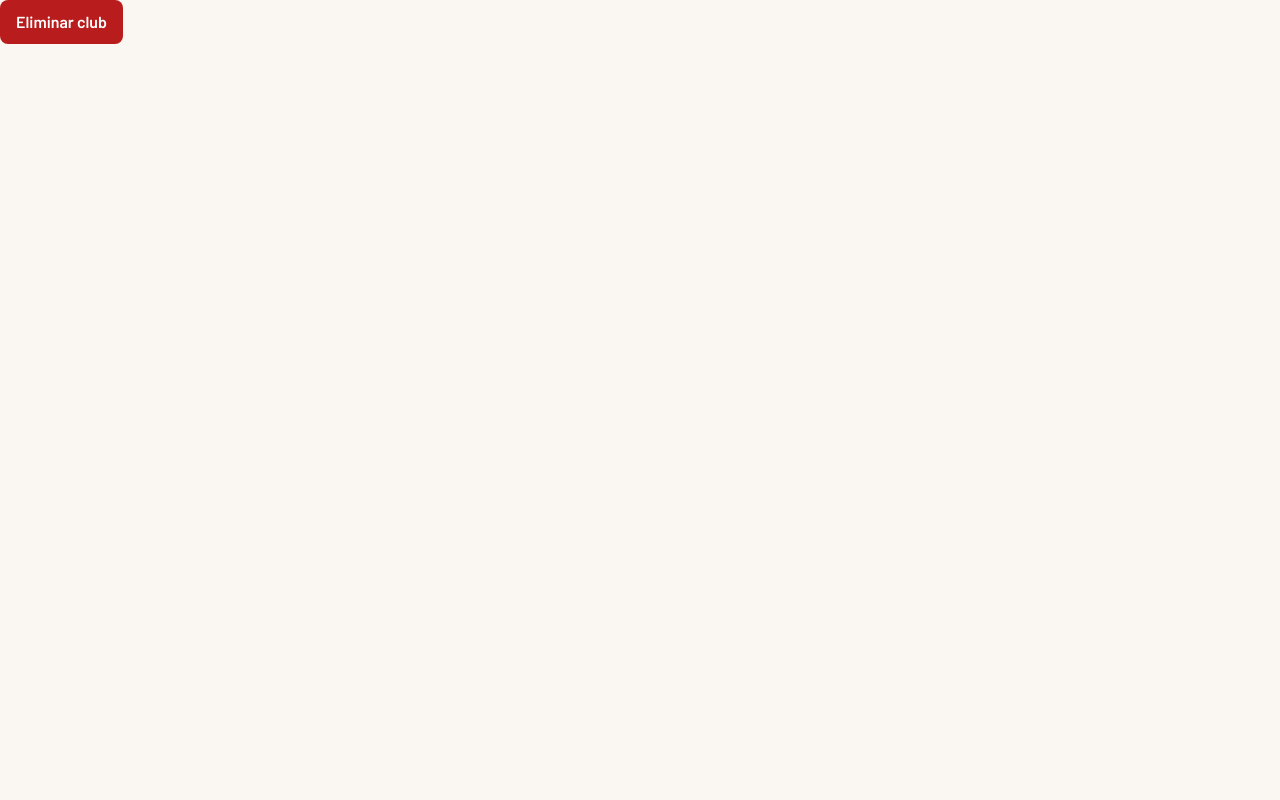
Scenario: ConfirmDialog en modo 'escribí el nombre' › se habilita con el nombre exacto y confirma
Later steps or results of the test are not shown.
Click the button "Eliminar club" at point(61, 22), box [0,0,123,44]
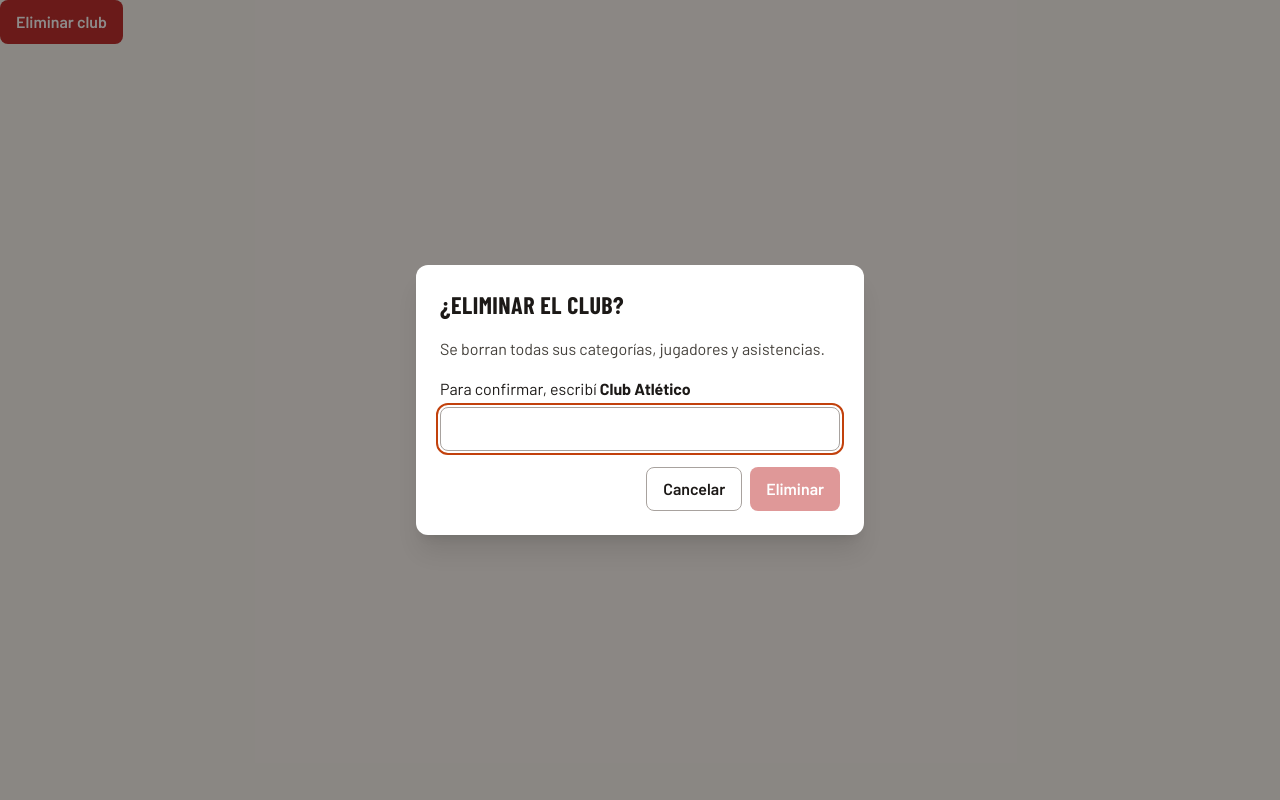
Type "Club Atlético" into the field at point(640, 429), box [440,407,840,451]
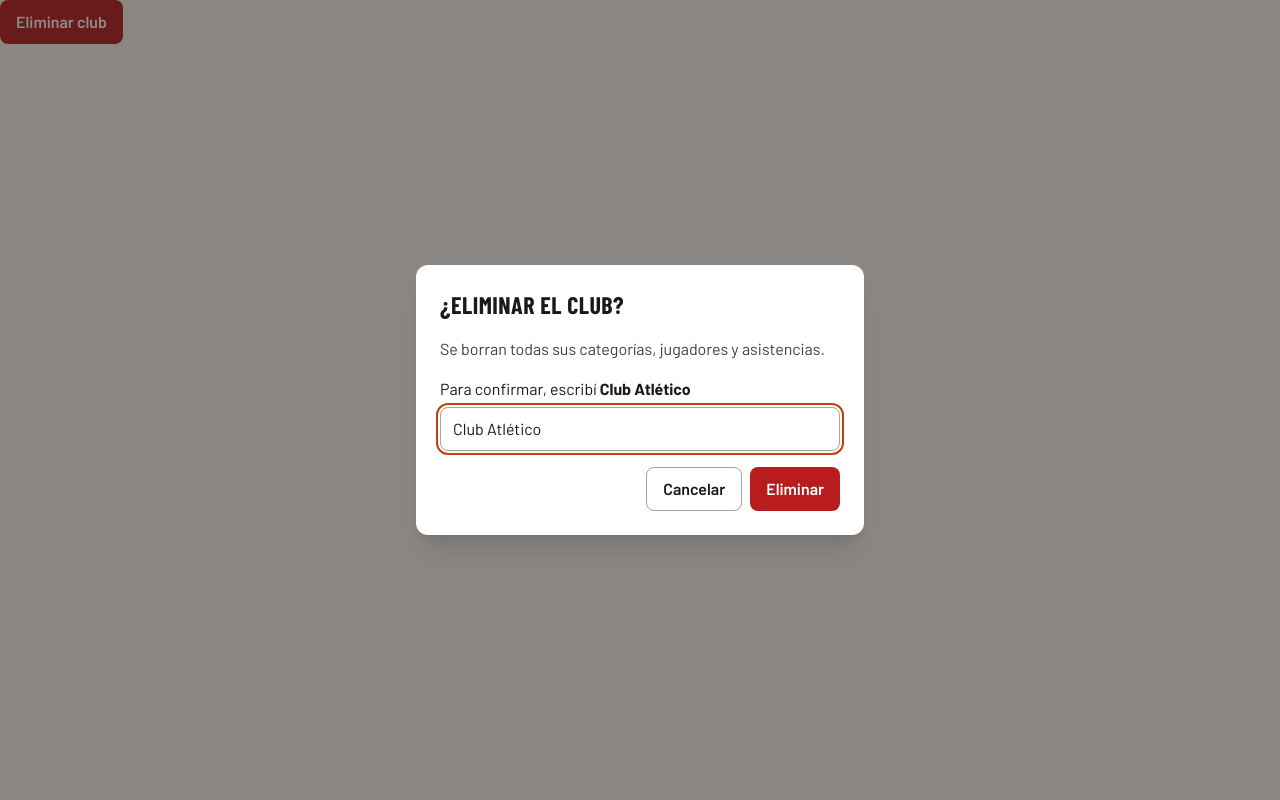
Expected: the button "Eliminar" is enabled, [750,467,840,511]
